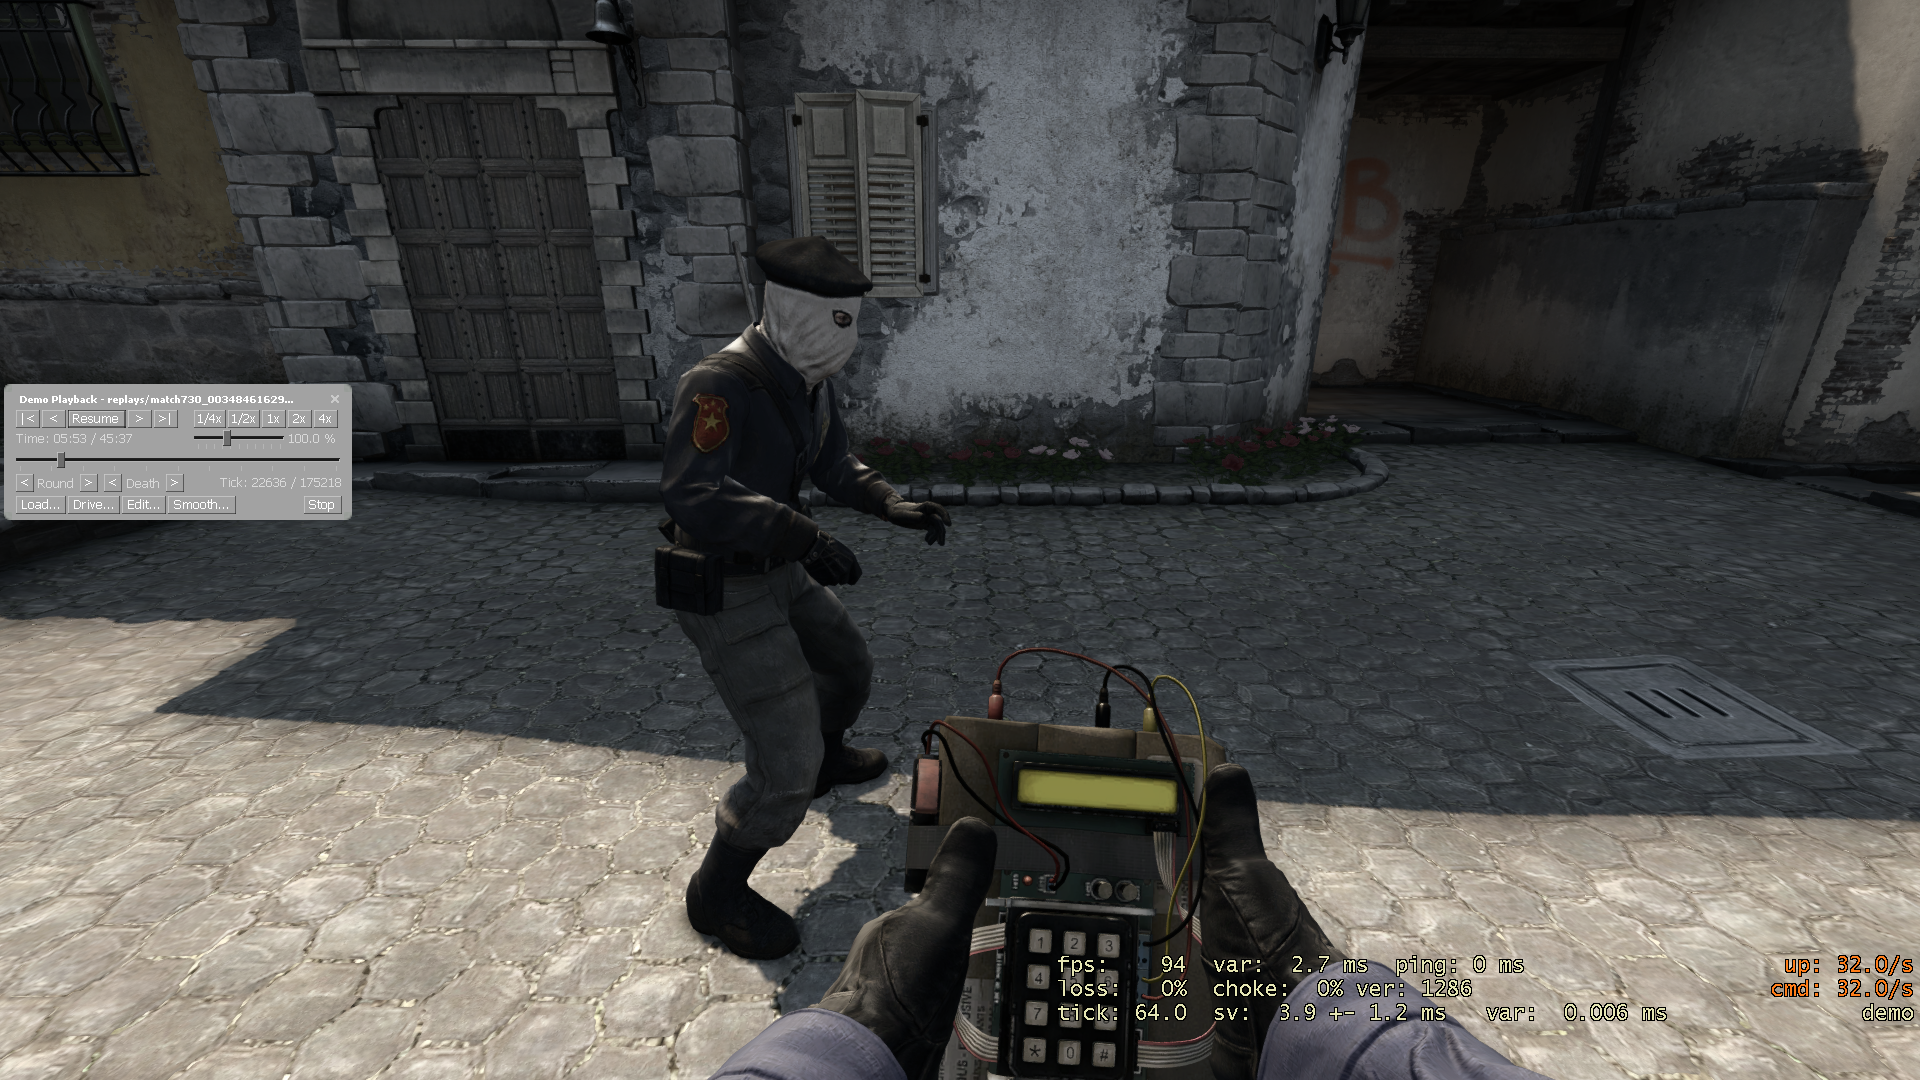t: (651, 237, 953, 968)
